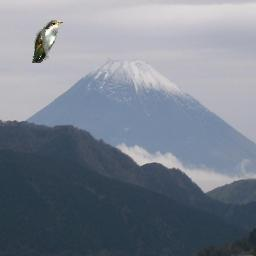Cuckoo: (32, 20, 63, 63)
